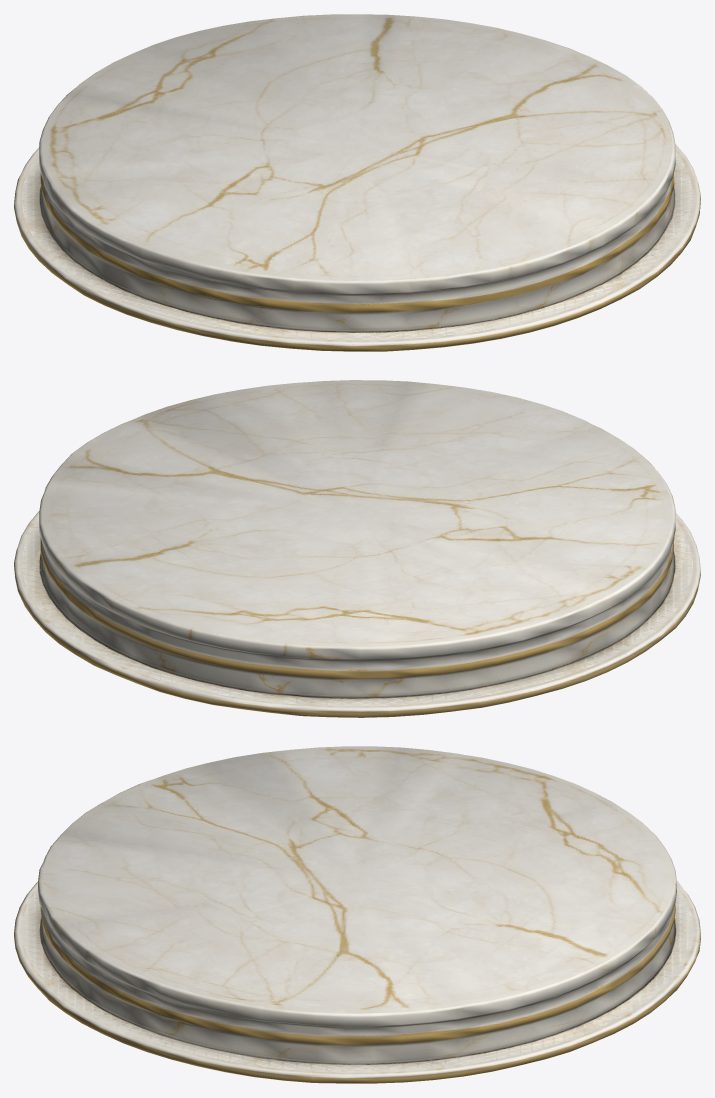
The model's file is PedestalOlimpo.glb.
3 renders of one model, top to bottom at view 1: azimuth 30°, elevation 25°; view 2: azimuth 150°, elevation 25°; view 3: azimuth 270°, elevation 25°, orthographic.
Bounding box in the file's own units: 1.91 × 0.184 × 1.91.
Materials: 1 (1 with a texture image).
